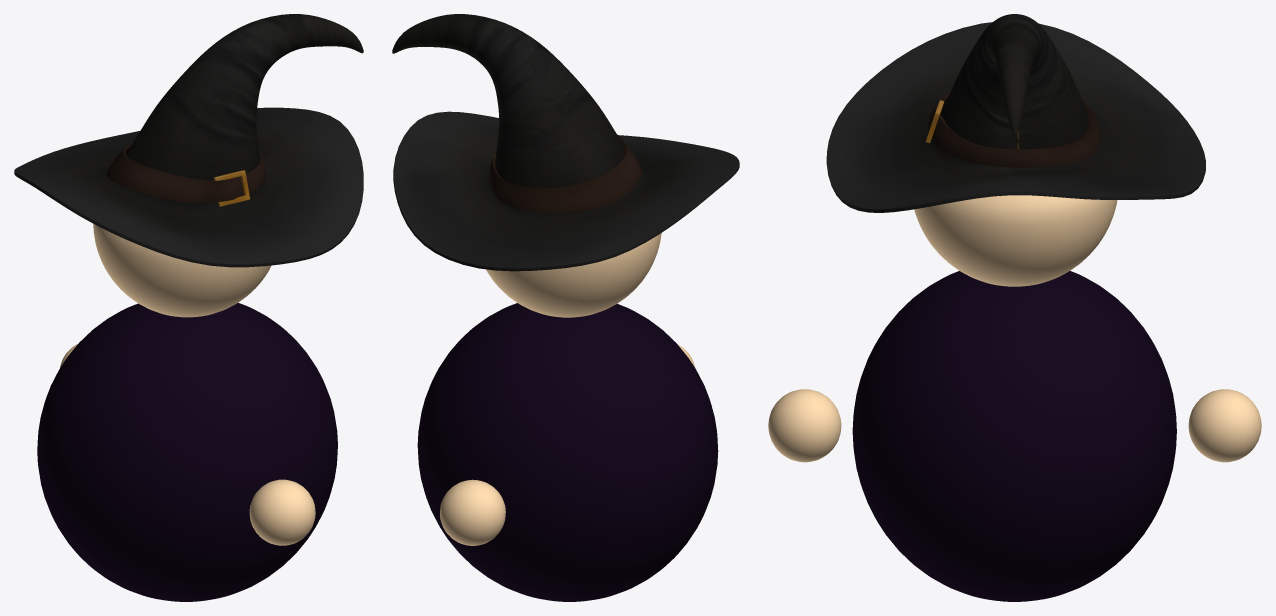
File: witch.fbx
3 views of the same model, side by side, from view 1: azimuth 30°, elevation 25°; view 2: azimuth 150°, elevation 25°; view 3: azimuth 270°, elevation 25° (orthographic). The views are drawn at different scales.
Parts seen in each view (by area): view 1: Body, Hat, Head, LeftHand; view 2: Body, Hat, Head, RightHand; view 3: Body, Hat, Head, LeftHand, RightHand.
Boxes of the visible parts, x1,y1,x2,y2 form: Body: (37, 303, 337, 601); Hat: (14, 14, 363, 267); Head: (93, 224, 271, 317); LeftHand: (249, 479, 315, 545); Body: (417, 303, 718, 601); Hat: (392, 14, 739, 271); Head: (486, 233, 661, 317); RightHand: (440, 479, 505, 545); Body: (852, 271, 1176, 601); Hat: (826, 14, 1205, 212); Head: (914, 195, 1117, 286); LeftHand: (768, 389, 841, 462); RightHand: (1188, 389, 1261, 462).
Size of the model in its own units: 2651 by 4278 by 3149.
